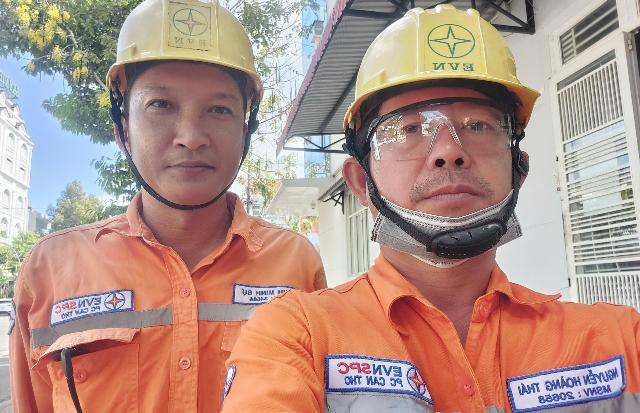helmet: (326, 9, 548, 145), (103, 0, 276, 108)
